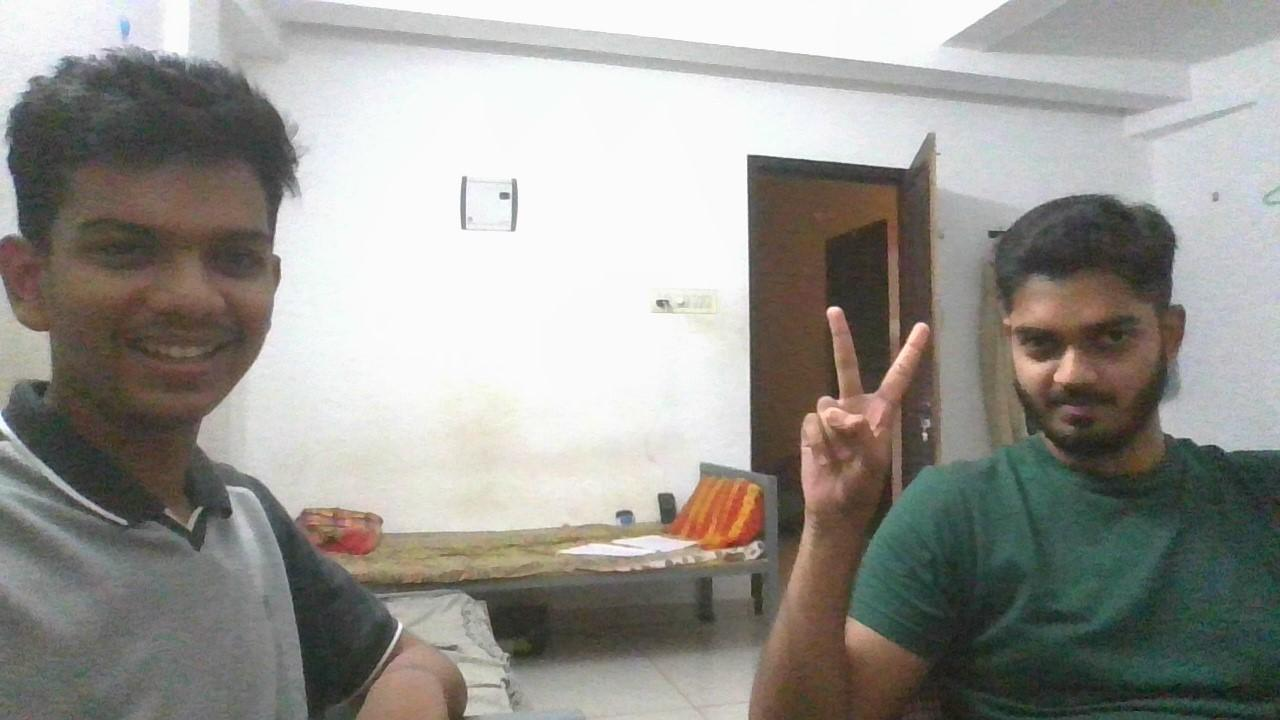nohelmet: (3, 48, 295, 427), (996, 193, 1187, 460)
